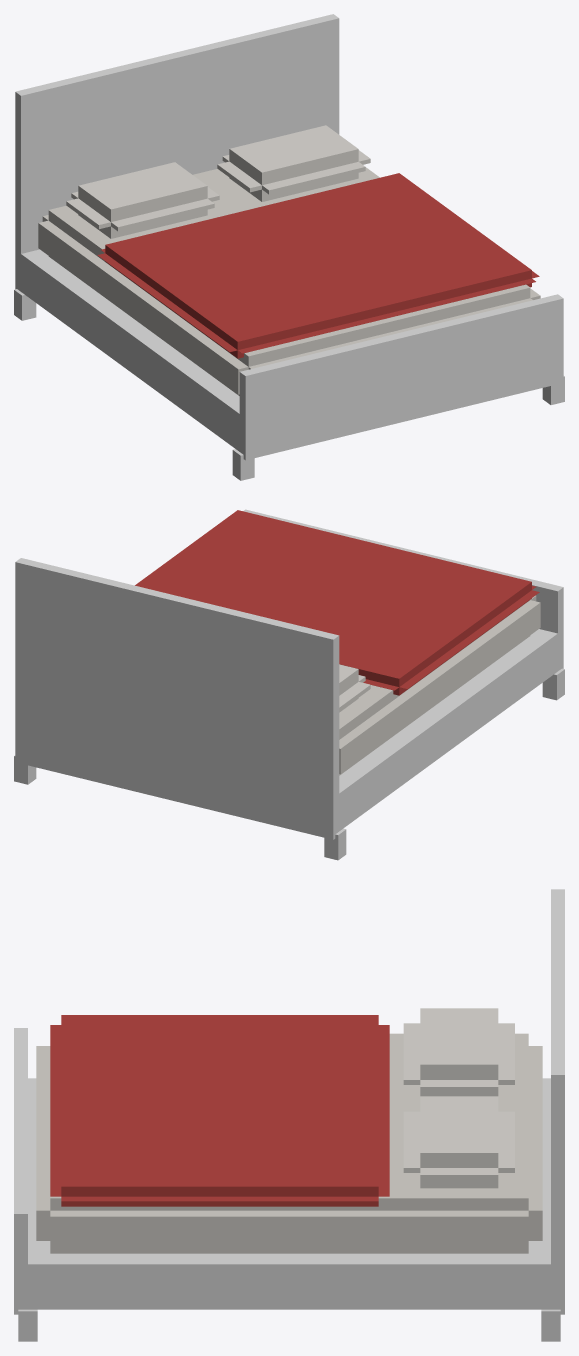
Rendered from bed-double-red.glb.
3 renders of one model, top to bottom at view 1: azimuth 30°, elevation 25°; view 2: azimuth 150°, elevation 25°; view 3: azimuth 270°, elevation 25°, orthographic. The views are drawn at different scales.
Parts seen in each view (by area): view 1: bed-double-red; view 2: bed-double-red; view 3: bed-double-red.
Boxes of the visible parts, left/top/right/bottom form: bed-double-red: left=14, top=14, right=564, bottom=480; bed-double-red: left=14, top=509, right=564, bottom=860; bed-double-red: left=14, top=889, right=564, bottom=1341.
Size of the model in its own units: 1.85 by 1.21 by 2.28.
